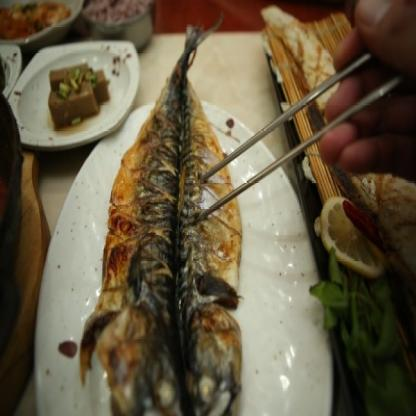Peixe: (80, 15, 251, 416)
